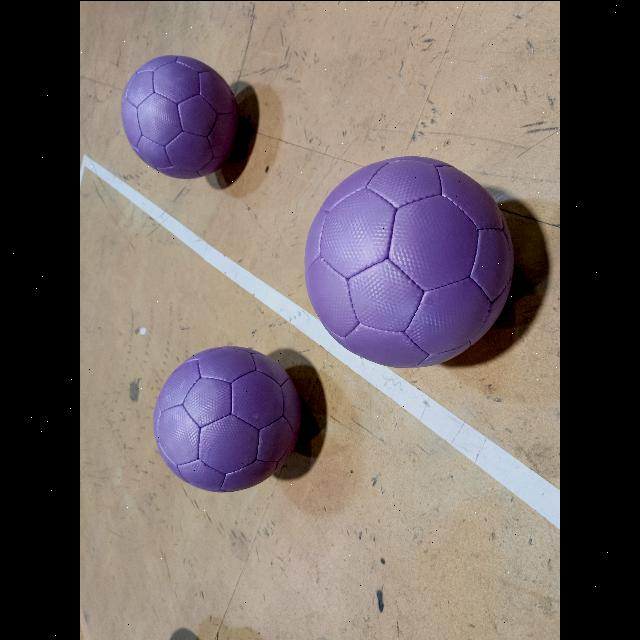P: (304, 156, 512, 367), (152, 344, 302, 492), (121, 54, 241, 178)
